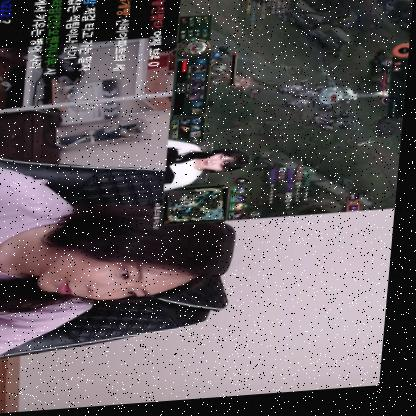donation: (156, 0, 416, 231)
streamer: (0, 143, 249, 377)
